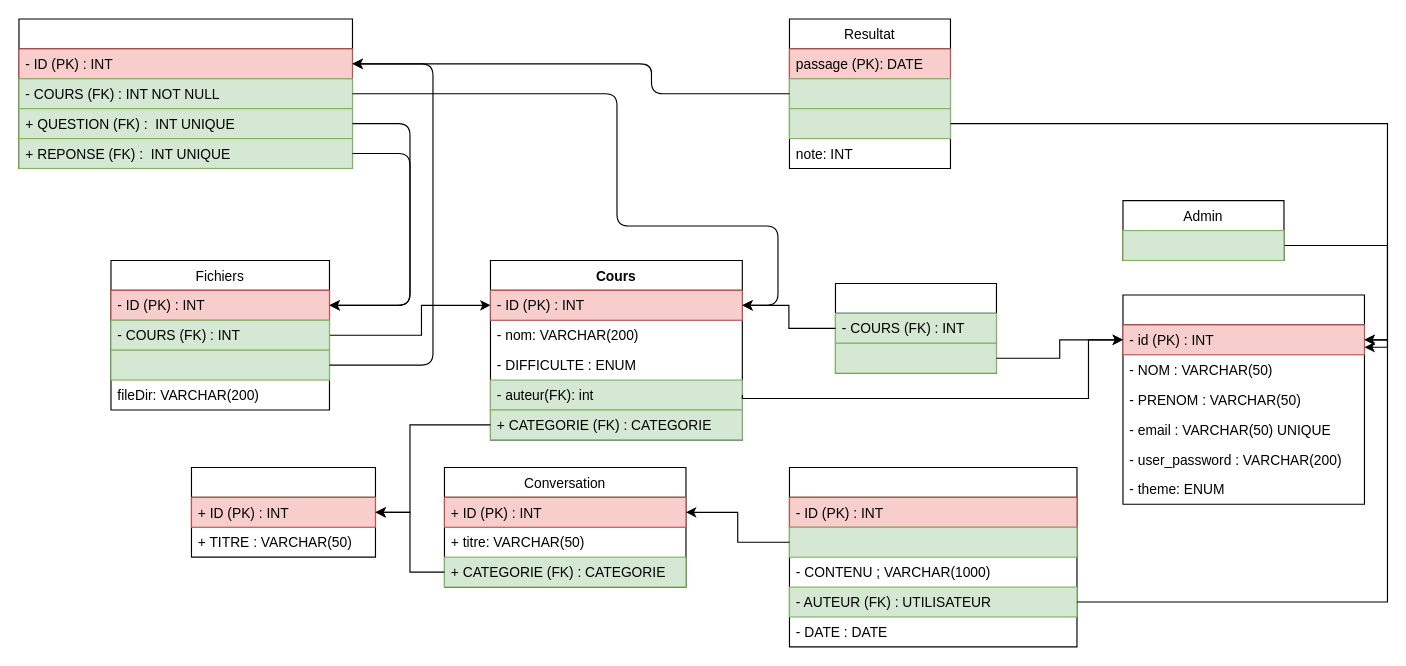
Image size: 1406x666. Some labels were removed from this diagram. The shapes that lost their labels are listed below. From the top down, each one's box as (x1, y1, x2, y2) in pixels, then its label:
(18, 18, 352, 168): Evaluation
(788, 78, 950, 109): evaluation(FK, PK): INT
(788, 108, 950, 139): utilisateur(FK, PK): INT
(1122, 229, 1284, 260): - USER (FK, PK): INT
(834, 282, 996, 373): Abonnement
(110, 349, 329, 380): - EVALUATION (FK) : INT
(834, 342, 996, 373): - USER (FK): INT
(1122, 294, 1364, 504): Utilisateurs
(190, 466, 375, 557): Categories
(788, 526, 1077, 557): + CONVERSATION (FK) : CONVERSATION
(788, 466, 1077, 647): Message
